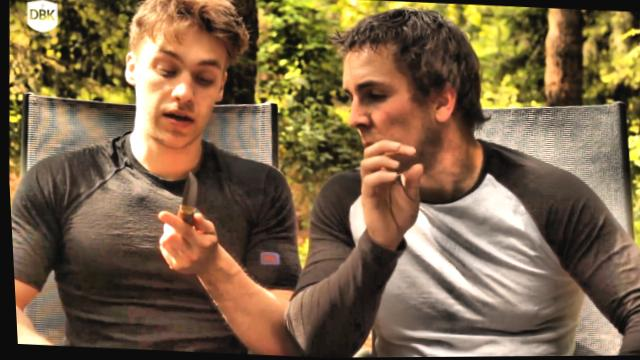knife: (143, 158, 222, 261)
